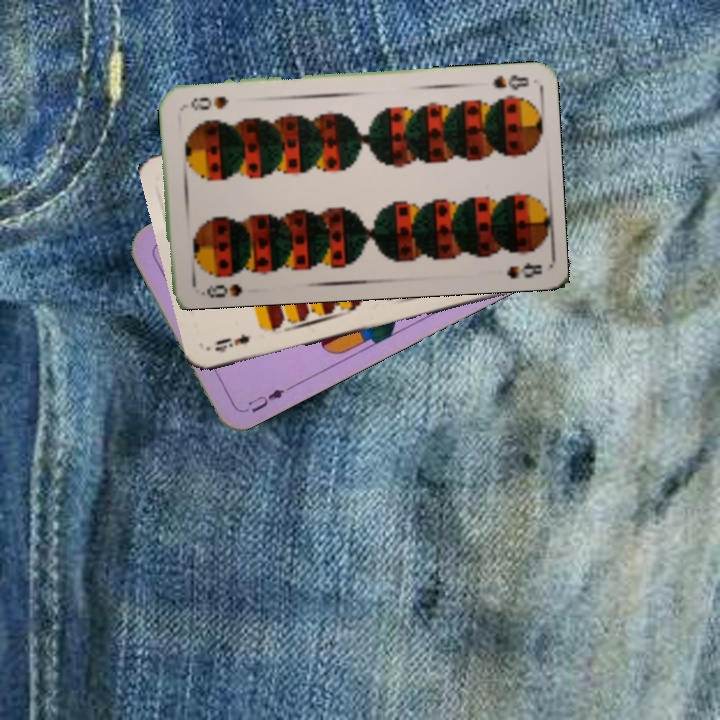E9: (210, 329, 252, 355)
EU: (238, 382, 294, 416)
S8: (488, 70, 532, 93), (197, 280, 244, 300)
